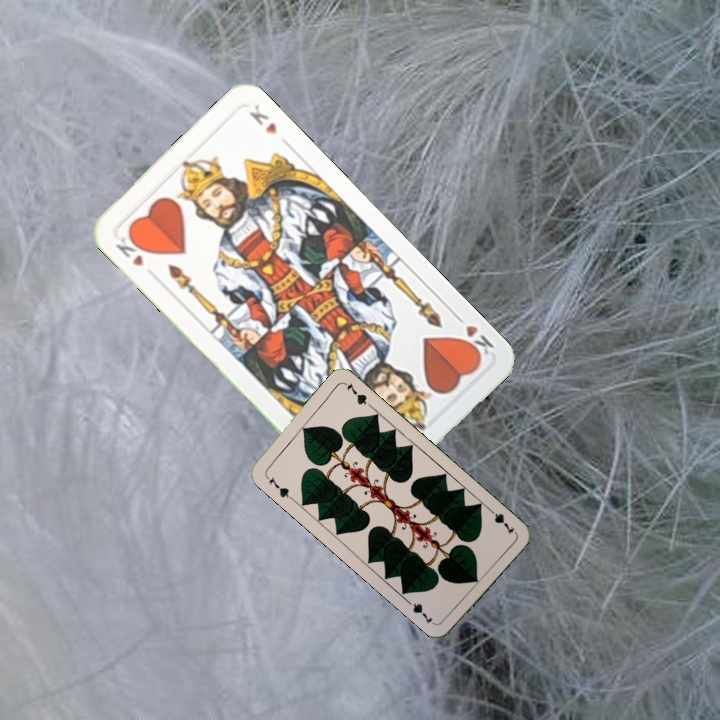G7: (484, 504, 517, 537), (261, 471, 295, 502)
HK: (450, 309, 497, 362), (111, 229, 150, 269)
